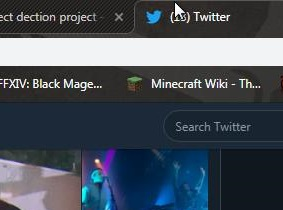cursor: (173, 1, 186, 20)
